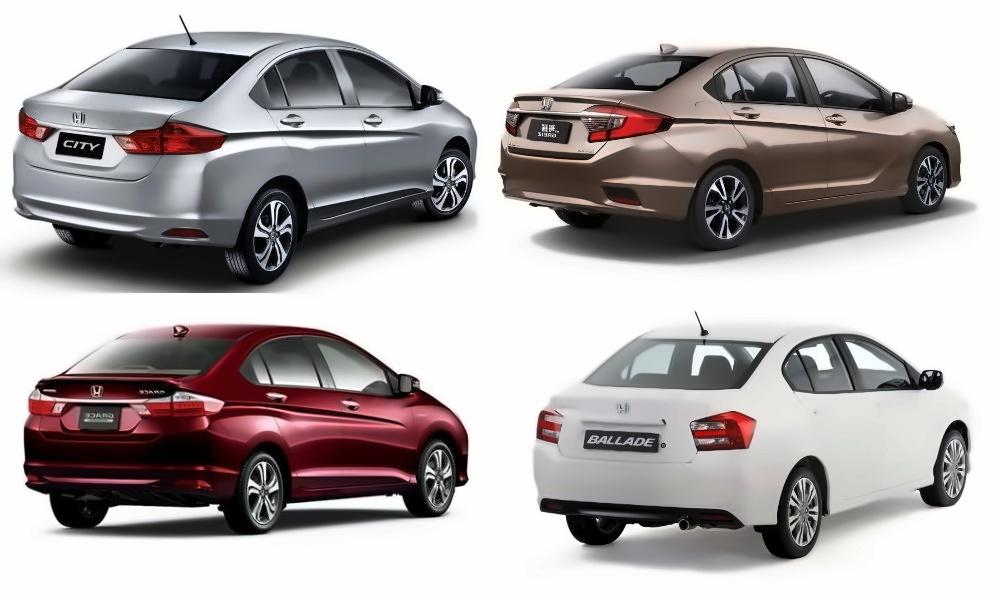Car boot: (15, 79, 193, 190), (541, 374, 705, 471), (25, 370, 193, 440), (505, 80, 639, 165)
Driver-s door - -F-R-: (334, 39, 431, 218), (323, 328, 408, 496), (805, 48, 898, 201), (848, 329, 929, 502)
Fender - -F-R-: (405, 388, 456, 490), (896, 106, 945, 191), (929, 383, 970, 479), (429, 100, 472, 190)
Fender - -R-R-: (654, 92, 774, 204), (222, 100, 315, 226), (754, 382, 833, 493), (214, 374, 285, 478)
Front bumper: (455, 416, 479, 493), (945, 116, 963, 197)
Passenger-s door - -R-R-: (255, 43, 373, 214), (708, 49, 832, 204), (778, 329, 868, 501), (260, 329, 338, 494)
Rear bumper: (7, 141, 248, 258), (510, 439, 786, 541), (15, 416, 243, 515), (489, 133, 707, 226)
Rear light - -L-: (520, 399, 574, 449), (19, 381, 75, 422), (493, 88, 532, 142), (13, 100, 60, 142)
Rear light - -R-: (108, 113, 231, 167), (121, 380, 232, 429), (578, 95, 673, 146), (684, 403, 760, 455)
Side bumper - -R-: (754, 158, 907, 218), (291, 183, 438, 243), (820, 465, 941, 519), (278, 466, 424, 506)
Side mirror - -R-: (408, 76, 449, 114), (391, 365, 429, 404), (915, 360, 949, 397), (884, 86, 916, 124)
